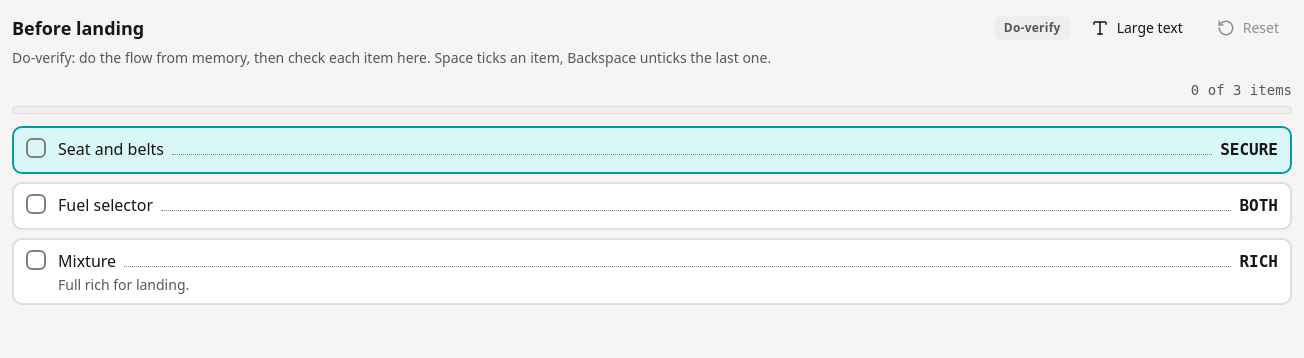
Test case: W16 Checklist runner › announces completion
Click the checkbox labelled "Seat and belts SECURE" at (111, 149), box x1=12 y1=126 x2=1292 y2=174
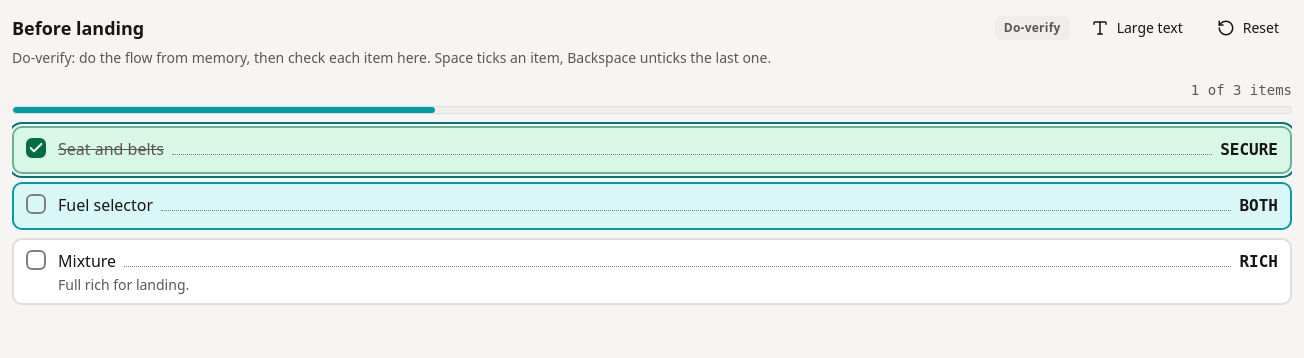
Click the checkbox labelled "Fuel selector BOTH" at (106, 205), box x1=12 y1=182 x2=1292 y2=230
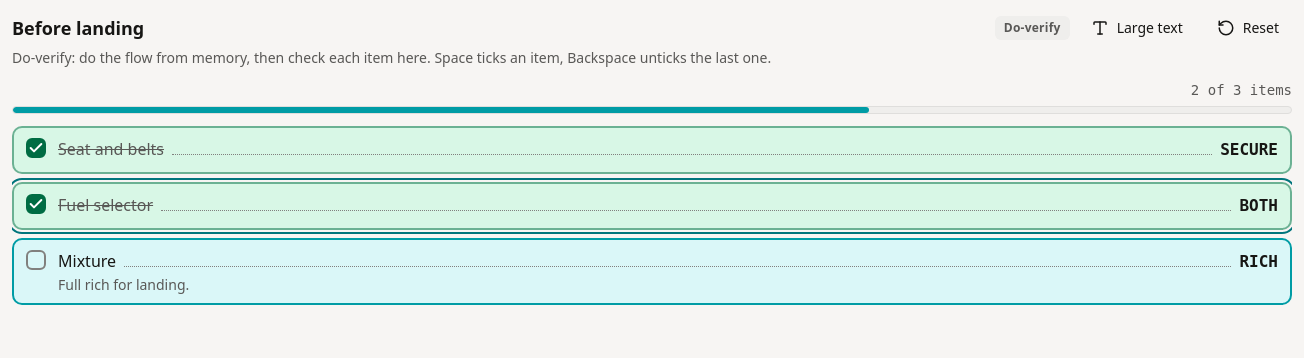
Click the checkbox labelled "Mixture RICH Full rich for landing." at (87, 261), box x1=12 y1=238 x2=1292 y2=305
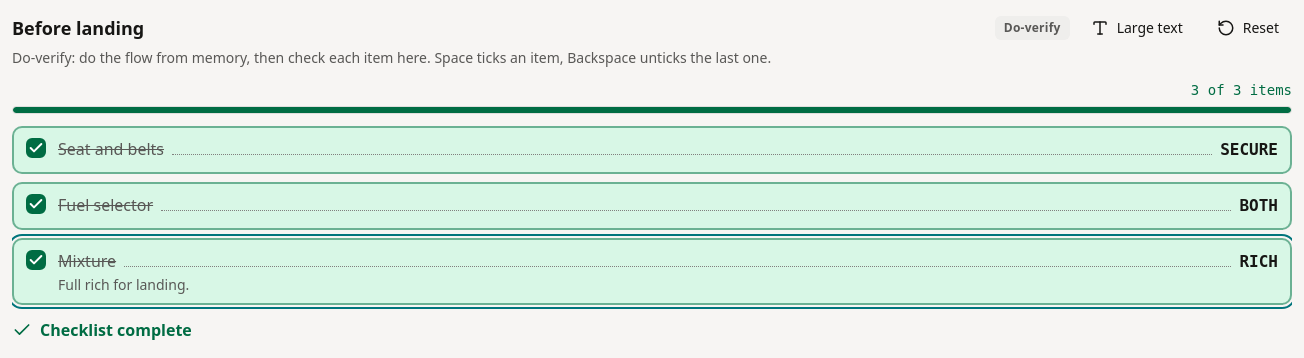
Now the text "Checklist complete" is shown, box x1=12 y1=319 x2=192 y2=341
